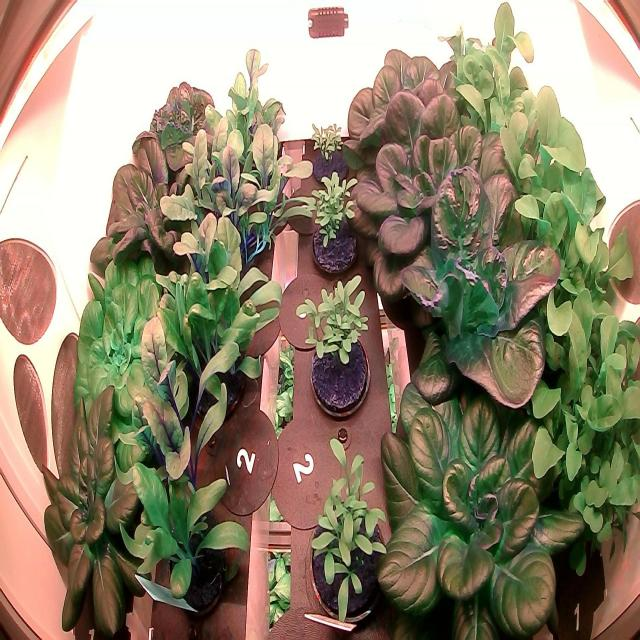Ready: (369, 349, 596, 640), (369, 152, 566, 420), (344, 97, 548, 315), (337, 34, 493, 199)
young: (35, 375, 163, 640), (86, 126, 215, 282), (72, 246, 168, 428), (132, 69, 231, 204)
